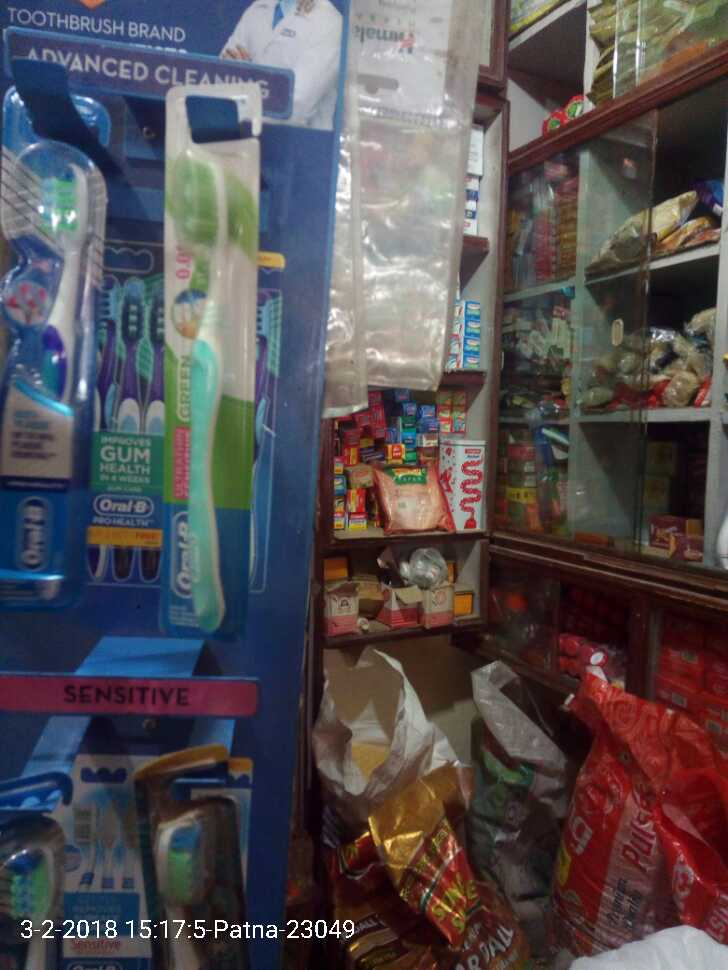oralb: (150, 160, 266, 626), (8, 140, 95, 575)
